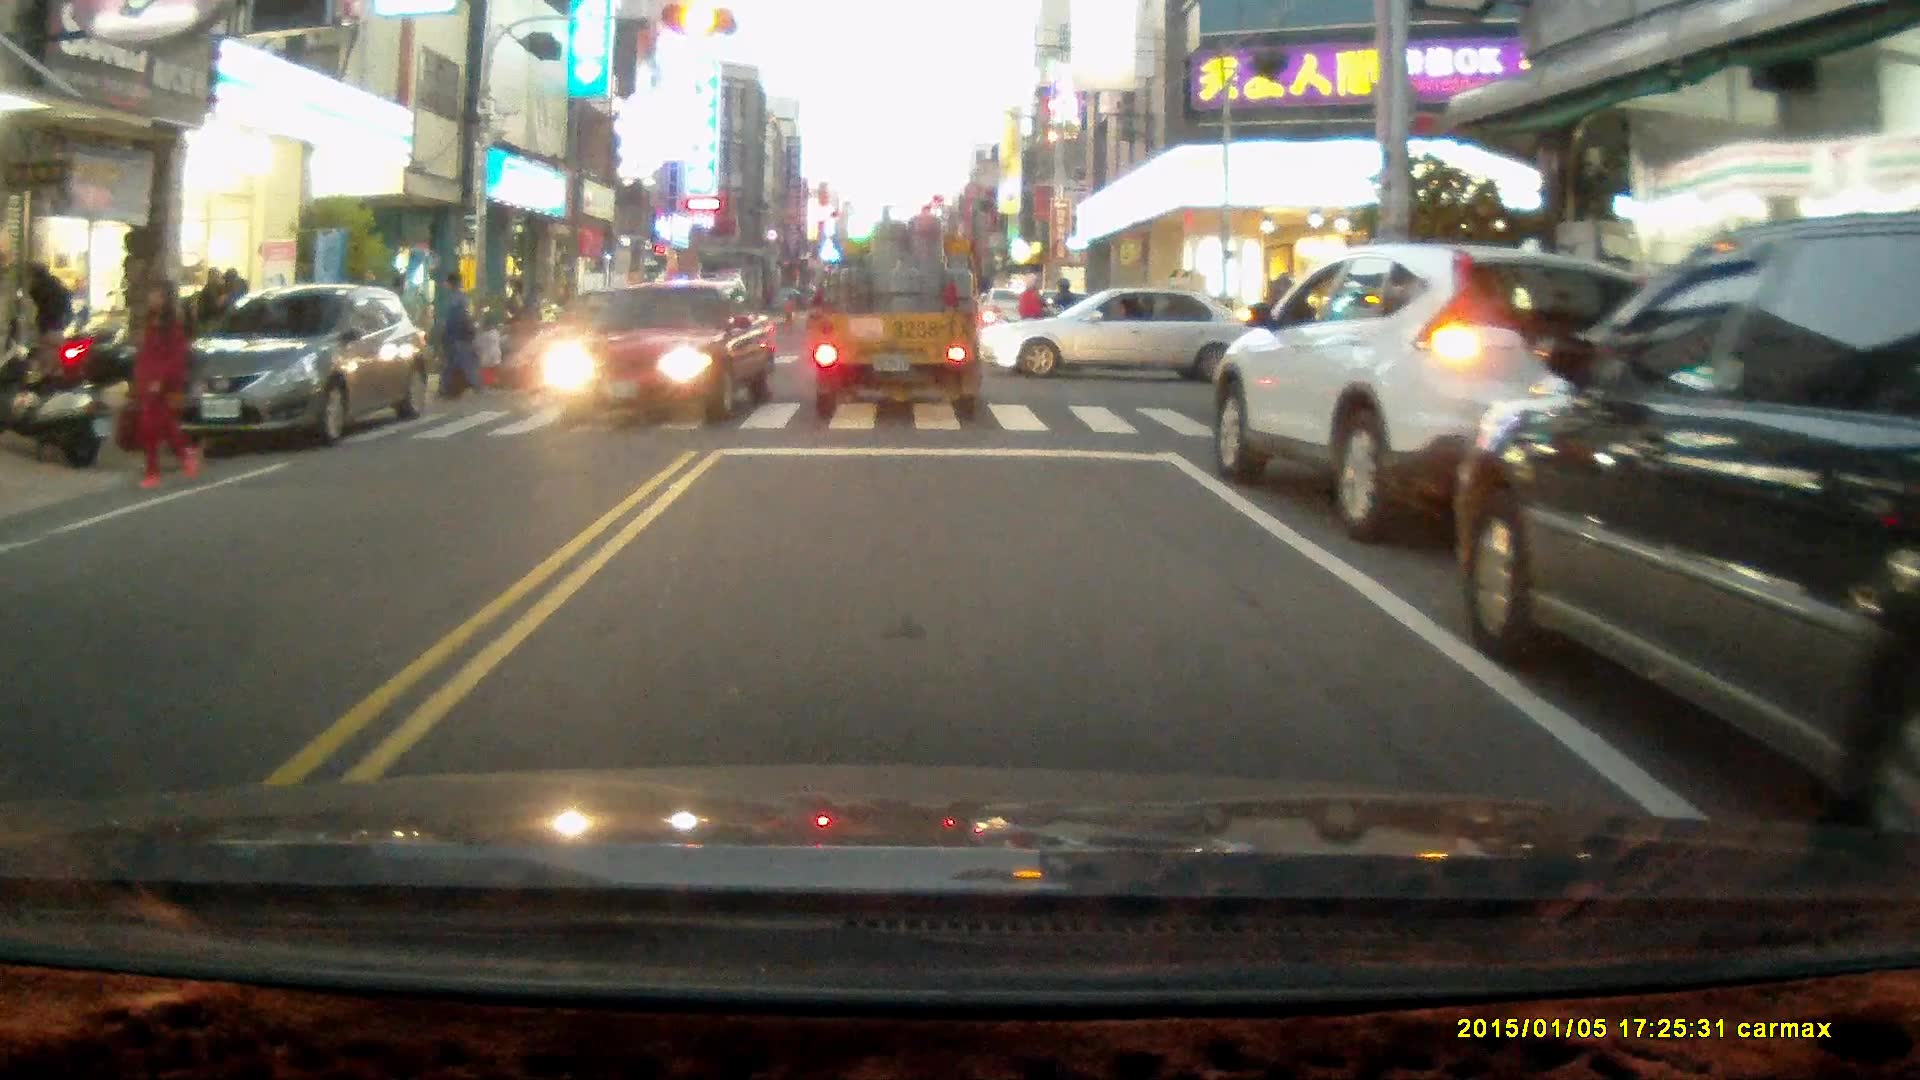pedestrian: (123, 274, 204, 488), (429, 266, 481, 402), (25, 260, 74, 390), (471, 316, 504, 386)
rider: (989, 267, 1075, 357)
vehicle: (1459, 209, 1920, 835), (1211, 246, 1708, 544), (162, 286, 424, 458), (810, 197, 983, 432), (539, 279, 777, 427), (985, 288, 1270, 391)
